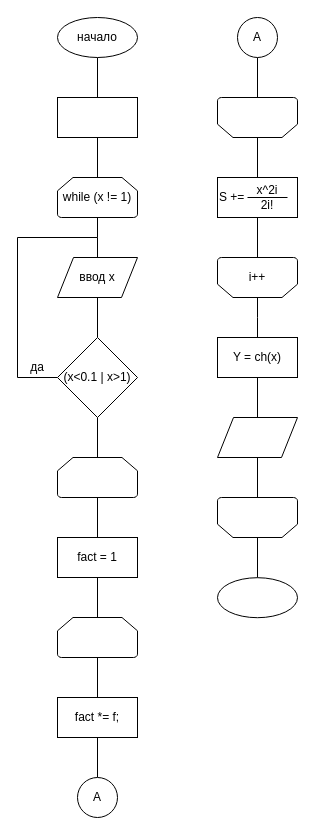
Some shapes in this 315 by 835 pixel diagram are drawn without their labels. Each missing label, with the centre of its shape:
"f++" belongs at pixel 257 117.
"int f=1; f<=i;" belongs at pixel 97 637.
"int fact, n; float x = 0, Y = S = 1;" belongs at pixel 97 117.
"int i=1;i<=n-1;" belongs at pixel 97 477.
"вывод X,Y" belongs at pixel 257 437.
"конец" belongs at pixel 257 597.
